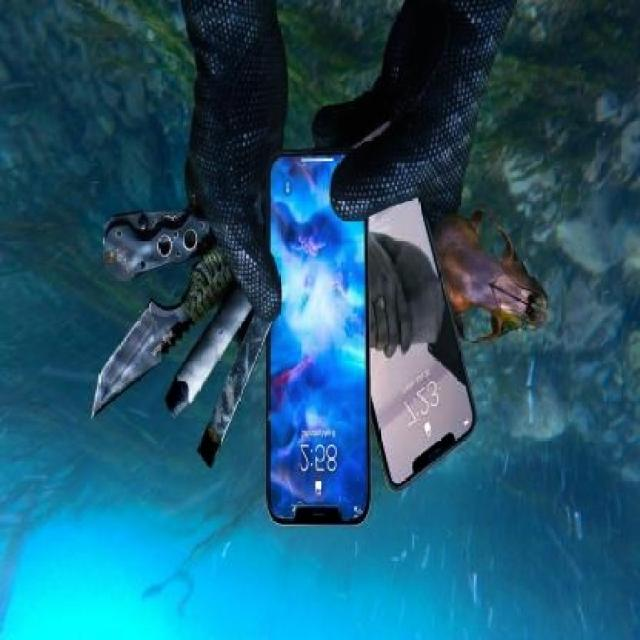cellphone: (315, 130, 480, 495), (264, 150, 371, 528)
misc: (88, 201, 278, 473)
